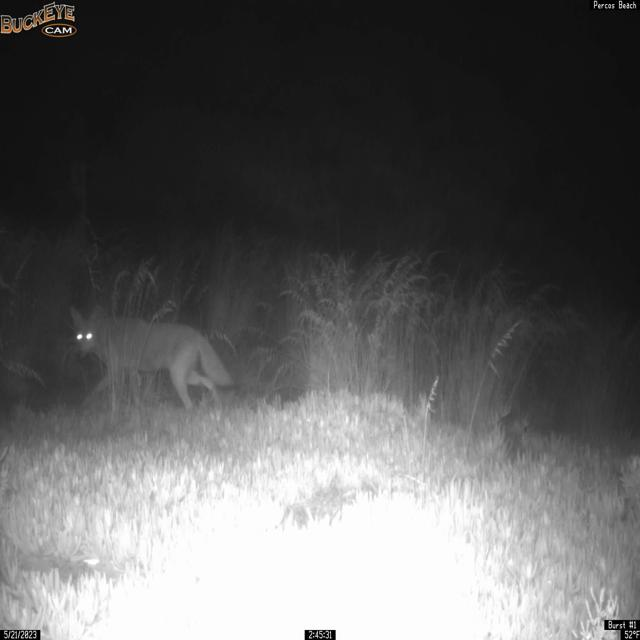coyote: (69, 303, 236, 415)
